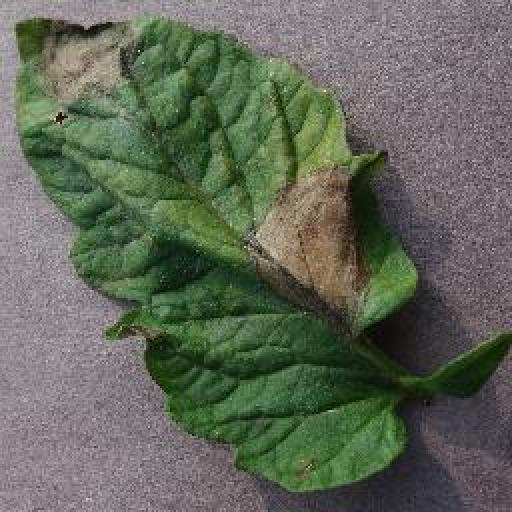disease_tomato: (11, 12, 420, 496)
